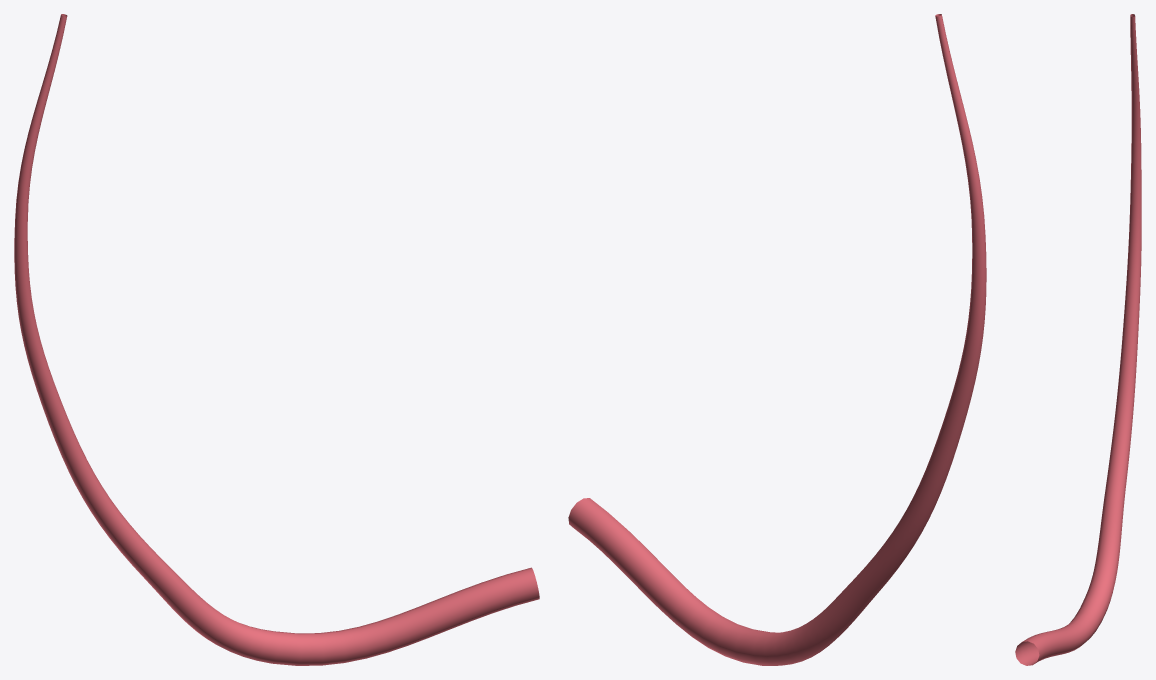
The picture shows the model from 3 angles, left to right: view 1: azimuth 30°, elevation 25°; view 2: azimuth 150°, elevation 25°; view 3: azimuth 270°, elevation 25°; orthographic projection. The views are drawn at different scales.
Visible parts, largest first — view 1: ZA_71a03ad9416f3a83; view 2: ZA_71a03ad9416f3a83; view 3: ZA_71a03ad9416f3a83.
Boxes of the visible parts, x1,y1,x2,y2 form: ZA_71a03ad9416f3a83: (14, 14, 539, 665); ZA_71a03ad9416f3a83: (568, 14, 986, 665); ZA_71a03ad9416f3a83: (1015, 14, 1141, 665).
Size of the model in its own units: 0.0161 by 0.023 by 0.00493.
